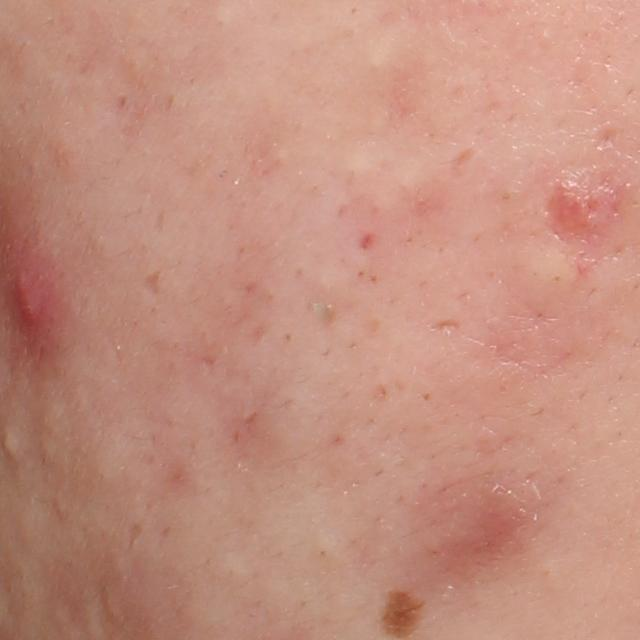atrophic_scar: (446, 145, 476, 185), (593, 121, 622, 152), (425, 317, 463, 332), (142, 268, 161, 298)
hypertrophic_scar: (516, 249, 580, 311), (350, 28, 407, 80)
papule: (544, 174, 613, 244), (6, 267, 52, 342)
